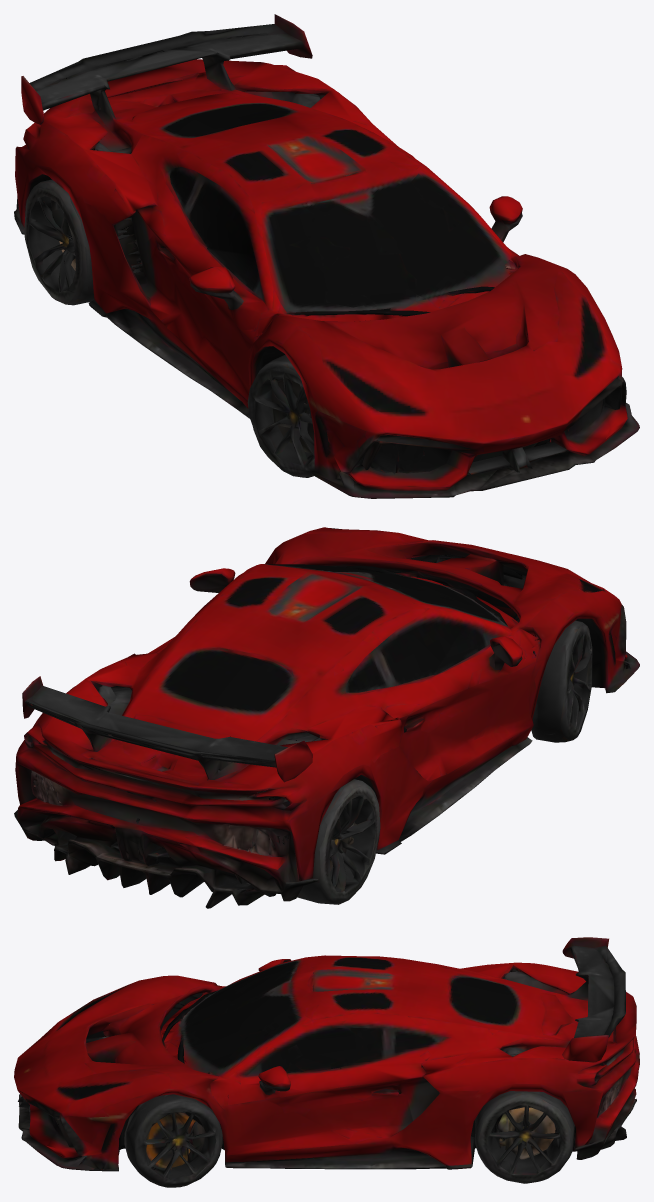
File: car-v14.glb
3 views of the same model, one above another, from view 1: azimuth 30°, elevation 25°; view 2: azimuth 150°, elevation 25°; view 3: azimuth 270°, elevation 25° (orthographic). The views are drawn at different scales.
Parts seen in each view (by area): view 1: world; view 2: world; view 3: world.
Boxes of the visible parts, left/top/right/bottom form: world: left=14, top=14, right=639, bottom=498; world: left=14, top=527, right=639, bottom=908; world: left=14, top=937, right=639, bottom=1187.
Size of the model in its own units: 0.4717 by 0.2739 by 1.
Materials: 1 (1 with a texture image).
